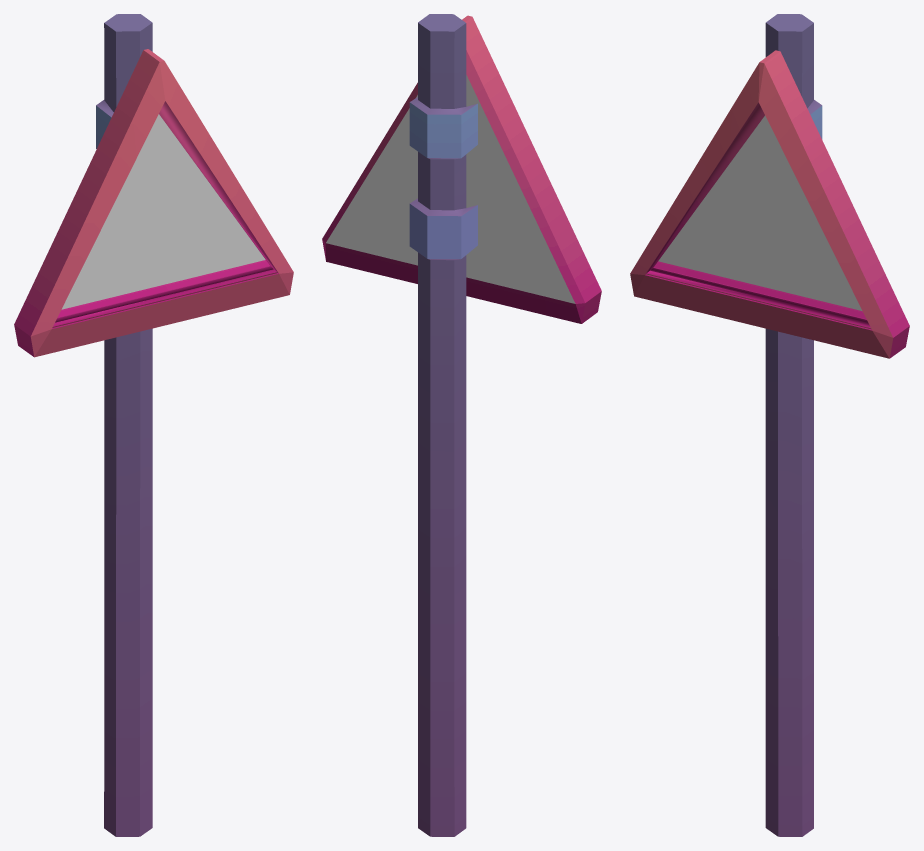
The model's file is signs2.fbx.
3 views of the same model, side by side, from view 1: azimuth 30°, elevation 25°; view 2: azimuth 150°, elevation 25°; view 3: azimuth 330°, elevation 25° (orthographic).
Parts seen in each view (by area): view 1: sign.001; view 2: sign.001; view 3: sign.001.
Part boxes in pixels (box(x1,y1,x2,y2)): sign.001: box(14, 14, 293, 836); sign.001: box(322, 14, 601, 836); sign.001: box(630, 14, 909, 836).
Bounding box in the file's own units: 418 × 1221 × 134.
Materials: 2 (1 with a texture image).
